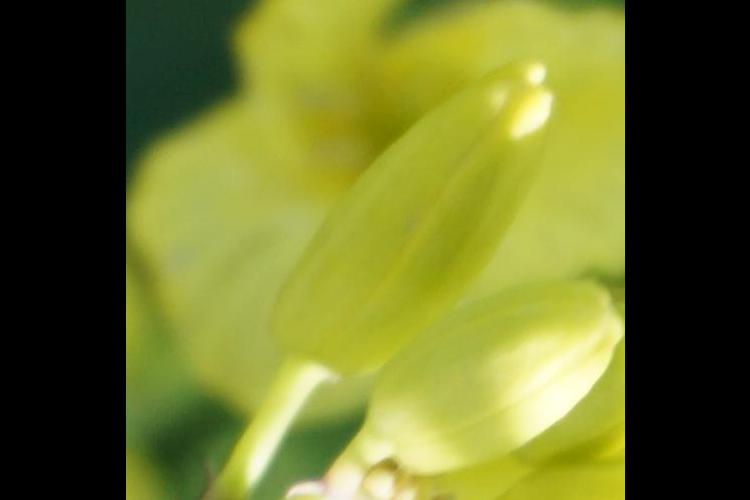bud: (272, 66, 554, 381), (363, 277, 617, 473)
